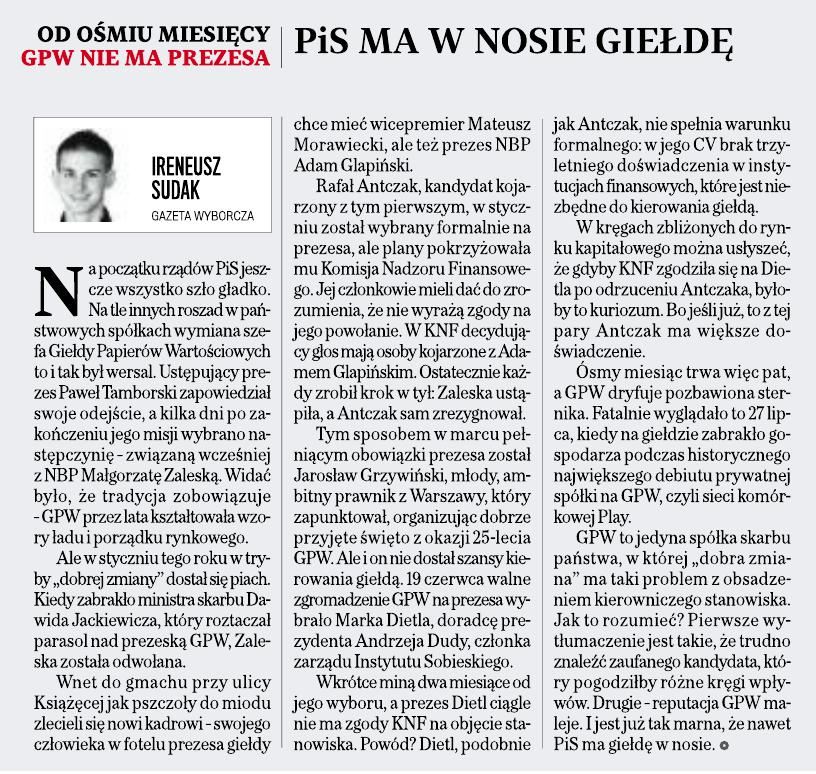author: (146, 147, 227, 204)
body: (548, 109, 800, 759), (288, 111, 539, 760), (27, 253, 277, 761)
title: (12, 12, 750, 81)
